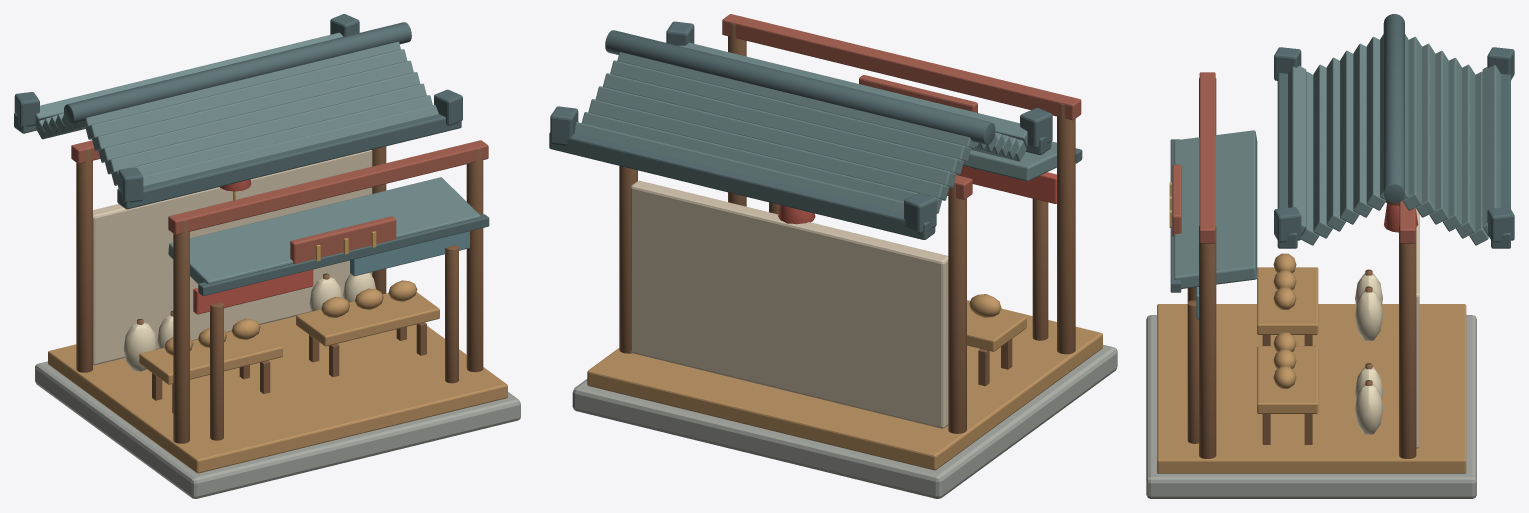
Rendered from building_market_open.glb.
3 renders of one model, left to right at view 1: azimuth 30°, elevation 25°; view 2: azimuth 150°, elevation 25°; view 3: azimuth 270°, elevation 25°, orthographic. The views are drawn at different scales.
Parts seen in each view (by area): view 1: RaisedFloor.005, MarketBackWall, Foundation.005, VerandaCanopy.005, TopBeam.010, RoofRidge.005, EaveBeam.010, WorkTableTop.004, TimberPost.020, TimberPost.021, TimberPost.022, VerandaGutter.005 (+13 smaller); view 2: MarketBackWall, RaisedFloor.005, Foundation.005, TopBeam.010, RoofRidge.005, EaveBeam.011, TimberPost.020, TimberPost.021, VerandaPost.010, TimberPost.023, VerandaCanopy.005, WorkTableTop.003 (+6 smaller); view 3: RaisedFloor.005, Foundation.005, VerandaCanopy.005, RoofRidge.005, TimberPost.023, TimberPost.022, WorkTableTop.004, WorkTableTop.003, TopBeam.010, EaveBeam.010, VerandaPost.011, EaveBeam.011 (+15 smaller).
Part boxes in pixels (box(x1,y1,x2,y2)): RaisedFloor.005: box(48, 316, 507, 473); MarketBackWall: box(93, 150, 372, 365); Foundation.005: box(35, 361, 520, 498); VerandaCanopy.005: box(168, 177, 480, 283); TopBeam.010: box(168, 140, 488, 234); RoofRidge.005: box(64, 22, 411, 124); EaveBeam.010: box(117, 114, 461, 209); WorkTableTop.004: box(296, 292, 439, 346); TimberPost.020: box(173, 220, 189, 443); TimberPost.021: box(76, 149, 92, 372); TimberPost.022: box(466, 148, 483, 372); VerandaGutter.005: box(198, 214, 489, 295); MarketBackWall: box(630, 180, 948, 428); RaisedFloor.005: box(587, 300, 1102, 470); Foundation.005: box(572, 344, 1117, 498); TopBeam.010: box(722, 14, 1081, 120); RoofRidge.005: box(605, 30, 995, 144); EaveBeam.011: box(549, 132, 935, 239); TimberPost.020: box(1057, 103, 1075, 354); TimberPost.021: box(948, 184, 966, 433); VerandaPost.010: box(1032, 198, 1048, 340); TimberPost.023: box(619, 166, 637, 353); VerandaCanopy.005: box(963, 141, 1056, 181); WorkTableTop.003: box(967, 302, 1026, 351); RaisedFloor.005: box(1157, 304, 1466, 473); Foundation.005: box(1146, 315, 1476, 498); VerandaCanopy.005: box(1174, 130, 1257, 288); RoofRidge.005: box(1383, 14, 1404, 202); TimberPost.023: box(1399, 225, 1416, 458); TimberPost.022: box(1199, 225, 1216, 458); WorkTableTop.004: box(1257, 346, 1318, 413); WorkTableTop.003: box(1257, 267, 1318, 334); TopBeam.010: box(1199, 72, 1215, 243); EaveBeam.010: box(1277, 73, 1297, 248); VerandaPost.011: box(1187, 300, 1198, 443); EaveBeam.011: box(1491, 74, 1510, 248).
Size of the model in its own units: 3.03 by 2.64 by 2.76.
